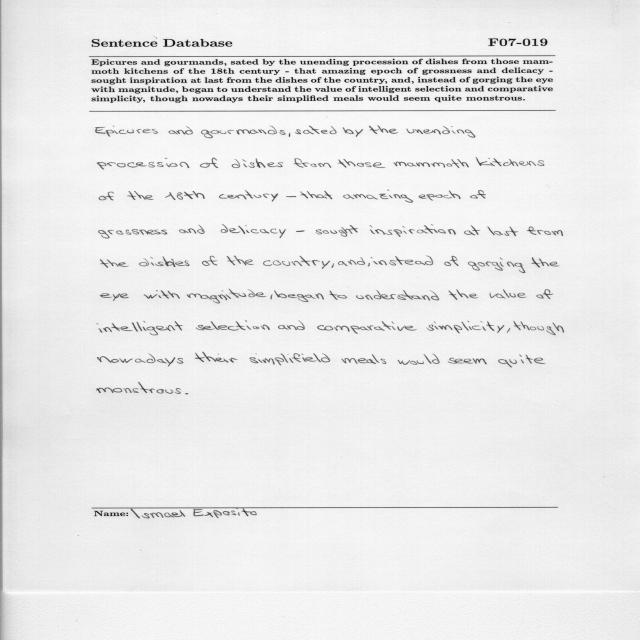word: (317, 321, 417, 334), (97, 321, 183, 335), (187, 289, 267, 303), (370, 224, 456, 237), (98, 354, 183, 367), (201, 126, 290, 138), (98, 158, 190, 169), (97, 382, 181, 394), (427, 321, 510, 333), (250, 353, 331, 365), (263, 256, 334, 269), (356, 290, 439, 301), (343, 190, 413, 203), (221, 224, 286, 238), (468, 258, 525, 273), (407, 126, 475, 138), (196, 321, 270, 331), (219, 190, 278, 202), (393, 159, 469, 168), (96, 126, 158, 137), (476, 158, 545, 167), (99, 229, 167, 238), (499, 355, 546, 368), (521, 321, 564, 335), (274, 290, 324, 302), (139, 256, 189, 267), (232, 158, 283, 168), (316, 225, 358, 237), (378, 256, 433, 265), (195, 352, 238, 363), (398, 354, 440, 365), (342, 354, 387, 364), (338, 159, 386, 168), (419, 191, 461, 201), (294, 158, 331, 168), (490, 289, 527, 299), (165, 191, 205, 200), (527, 227, 563, 237), (143, 290, 180, 299), (449, 289, 479, 300), (487, 227, 518, 237), (532, 258, 560, 268), (303, 126, 337, 134), (369, 125, 398, 134), (300, 191, 332, 199), (101, 259, 129, 268), (127, 191, 154, 200), (227, 256, 254, 265), (278, 321, 305, 330), (179, 225, 205, 234), (448, 358, 487, 364), (100, 293, 129, 301), (168, 126, 193, 135), (343, 127, 363, 137), (348, 258, 370, 267), (200, 158, 218, 168), (536, 289, 554, 299), (330, 291, 348, 300), (464, 226, 480, 236), (202, 256, 217, 266), (470, 190, 486, 199), (445, 256, 459, 266), (99, 192, 114, 200), (514, 321, 521, 330), (371, 257, 378, 264), (338, 261, 347, 266), (295, 129, 301, 134), (296, 230, 305, 232), (287, 196, 297, 197), (271, 295, 273, 300), (185, 393, 188, 394)
